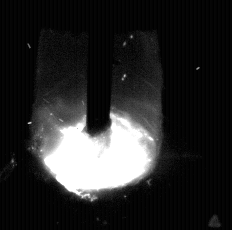arame: (88, 0, 112, 136)
poca: (31, 0, 163, 230)
